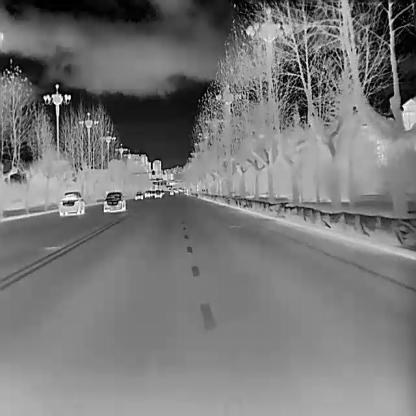car: (59, 191, 84, 215), (102, 191, 126, 212), (134, 191, 142, 200), (154, 190, 161, 198), (168, 189, 174, 195), (145, 190, 150, 197), (150, 190, 154, 196), (162, 190, 164, 194)
